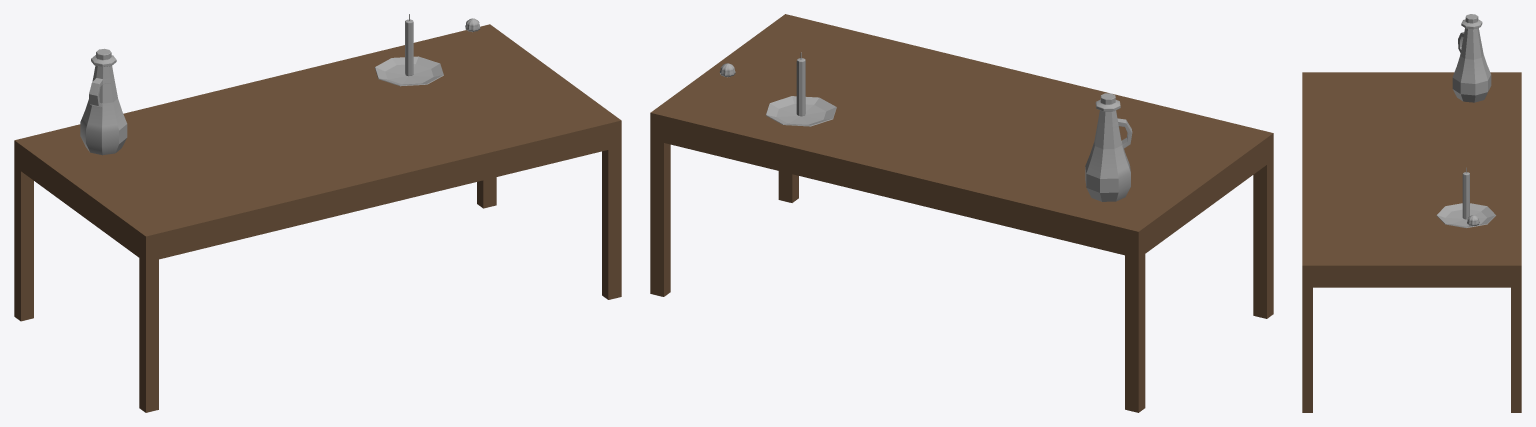
File: Escritorio.fbx
3 views of the same model, side by side, from view 1: azimuth 30°, elevation 25°; view 2: azimuth 150°, elevation 25°; view 3: azimuth 270°, elevation 25° (orthographic). The views are drawn at different scales.
Visible parts, largest first — view 1: Mesa, Botella, Plato_Vela; view 2: Mesa, Botella, Plato_Vela, Vela; view 3: Mesa, Botella, Plato_Vela, Vela, Tapa_Botella.
Boxes of the visible parts, x1,y1,x2,y2 form: Mesa: (14, 24, 621, 412); Botella: (80, 65, 127, 155); Plato_Vela: (375, 56, 443, 86); Mesa: (650, 14, 1273, 412); Botella: (1085, 110, 1132, 201); Plato_Vela: (766, 96, 836, 126); Vela: (796, 52, 805, 116); Mesa: (1302, 72, 1521, 412); Botella: (1452, 28, 1491, 102); Plato_Vela: (1436, 203, 1495, 227); Vela: (1462, 167, 1469, 219); Tapa_Botella: (1461, 14, 1482, 29).
Bounding box in the file's own units: 189 × 103 × 90.57.
